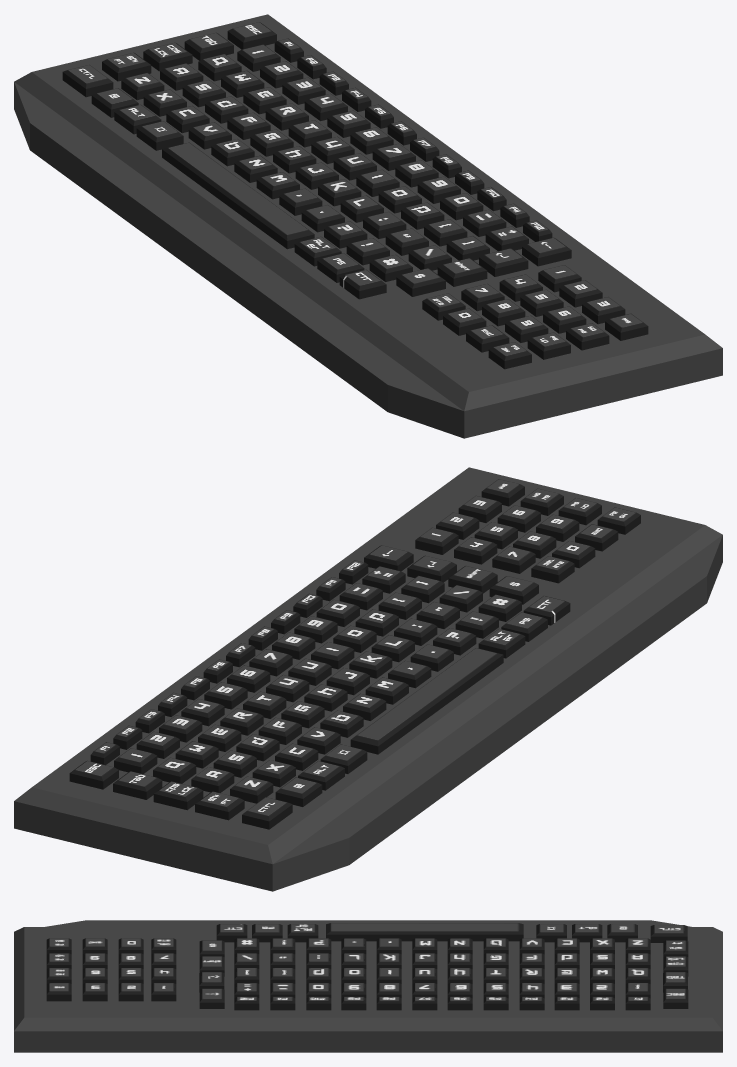
File: computer_keyboard_1509b394.glb
3 views of the same model, one above another, from view 1: azimuth 30°, elevation 25°; view 2: azimuth 150°, elevation 25°; view 3: azimuth 270°, elevation 25° (orthographic). The views are drawn at different scales.
Visible parts, largest first — view 1: pCube93; view 2: pCube93; view 3: pCube93.
Part boxes in pixels (x1=…): pCube93: x1=14, y1=14, x2=722, y2=438; pCube93: x1=14, y1=467, x2=722, y2=891; pCube93: x1=14, y1=920, x2=722, y2=1052.
Size of the model in its own units: 5.61 by 0.9324 by 15.14.
Materials: 1 (1 with a texture image).
